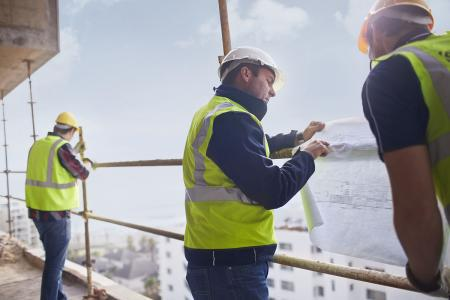helmet: (350, 2, 447, 69), (212, 40, 291, 106), (51, 109, 83, 145)
